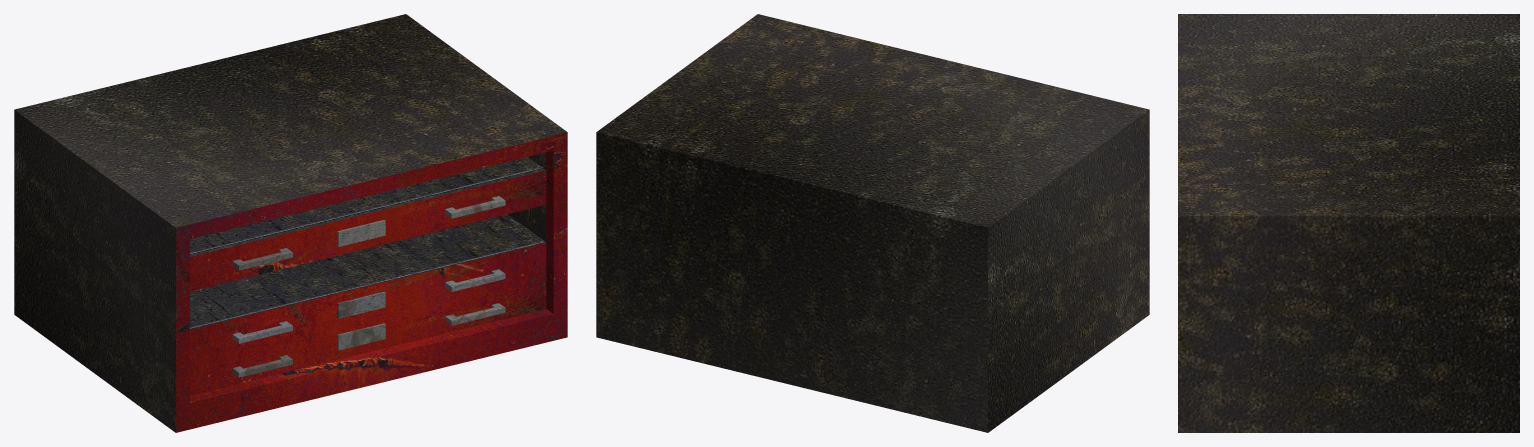
The model's file is case1.FBX.
The picture shows the model from 3 angles, left to right: view 1: azimuth 30°, elevation 25°; view 2: azimuth 150°, elevation 25°; view 3: azimuth 270°, elevation 25°; orthographic projection. The views are drawn at different scales.
Visible parts, largest first — view 1: Box008; view 2: Box008; view 3: Box008.
Boxes of the visible parts, x1=… form: Box008: x1=14, y1=14, x2=567, y2=432; Box008: x1=596, y1=14, x2=1149, y2=432; Box008: x1=1178, y1=14, x2=1519, y2=432.
Bounding box in the file's own units: 55.12 × 27.56 × 39.37.
Materials: 1 (1 with a texture image).
